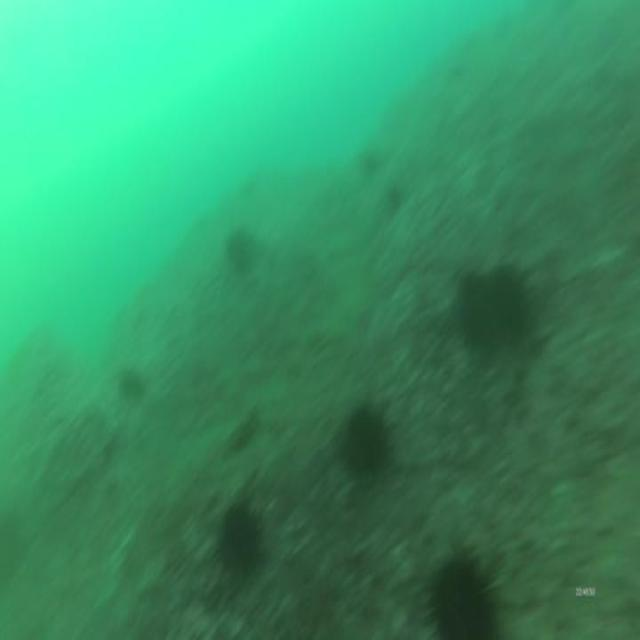echinus: (418, 543, 504, 640), (451, 264, 535, 363), (336, 398, 394, 484), (215, 498, 266, 580), (114, 365, 148, 416), (224, 224, 256, 275), (382, 178, 404, 224), (355, 146, 383, 180)
